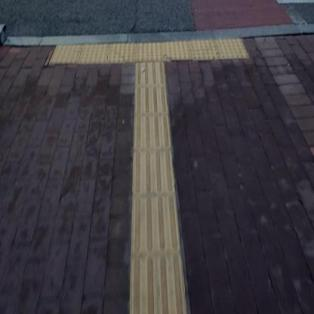Podoctatil: (129, 63, 192, 313), (47, 36, 250, 71)
